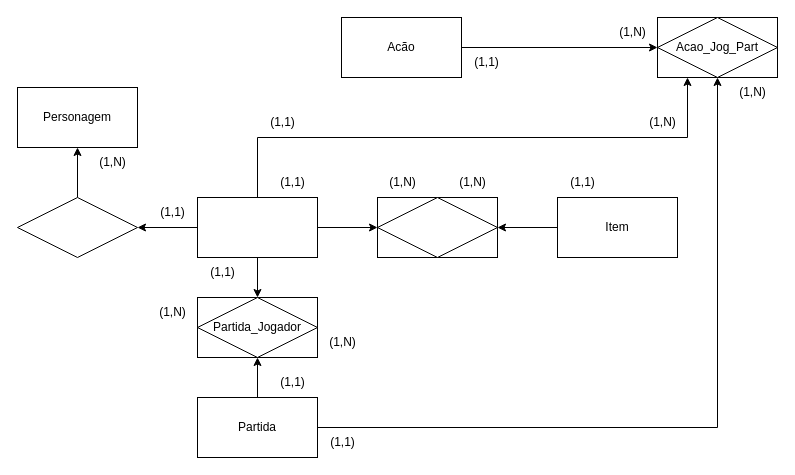
This 795x475 diagram has some shape labels left out. The shapes that lost their labels are listed below. From the top down, each one's centre as x and y in pixels, then its label:
the point at 77,227: Cria
the point at 257,227: Jogador
the point at 437,227: Item_Jogador
